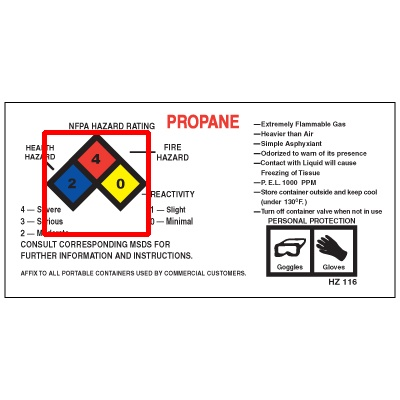nfpa: (44, 132, 148, 234)
